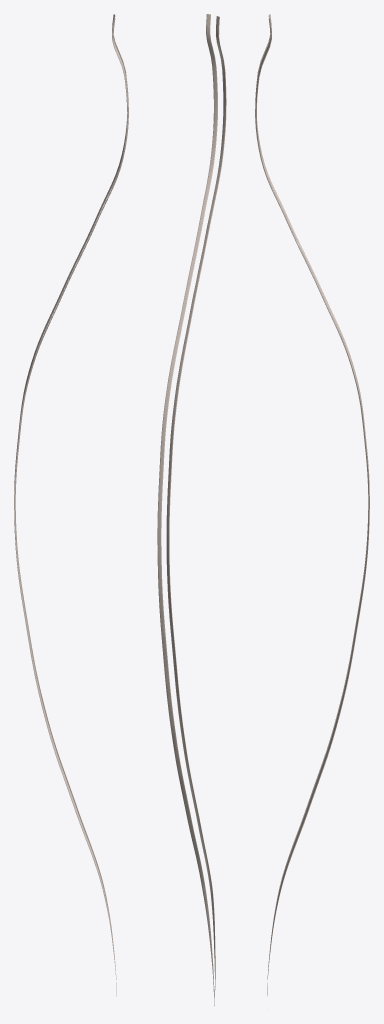
File: nervoso-lateral-vestibulospinal-tract.glb
3 renders of one model, left to right at view 1: azimuth 90°, elevation 25°; view 2: azimuth 150°, elevation 25°; view 3: azimuth 270°, elevation 25°, orthographic.
Parts seen in each view (by area): view 1: Lateral vestibulospinal tract; view 2: Lateral vestibulospinal tract; view 3: Lateral vestibulospinal tract.
Part boxes in pixels (left/top/right/bottom): Lateral vestibulospinal tract: left=14, top=14, right=128, bottom=996; Lateral vestibulospinal tract: left=157, top=14, right=226, bottom=1005; Lateral vestibulospinal tract: left=255, top=14, right=369, bottom=995.
Bounding box in the file's own units: 0.00672 × 0.4891 × 0.0512.
